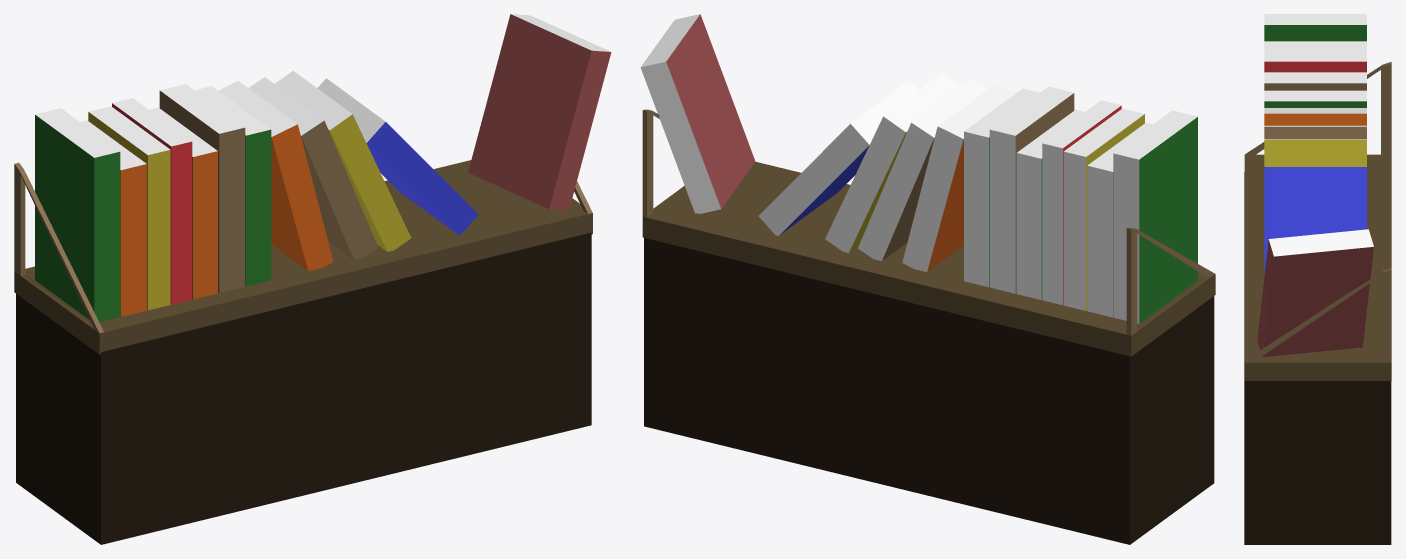
The model's file is ReceptionDesk_01.obj.
3 renders of one model, left to right at view 1: azimuth 30°, elevation 25°; view 2: azimuth 150°, elevation 25°; view 3: azimuth 270°, elevation 25°, orthographic. The views are drawn at different scales.
Visible parts, largest first — view 1: WallBookshelf; view 2: WallBookshelf; view 3: WallBookshelf.
Part boxes in pixels (x1=…): WallBookshelf: x1=14, y1=14, x2=611, y2=544; WallBookshelf: x1=640, y1=14, x2=1215, y2=544; WallBookshelf: x1=1244, y1=14, x2=1391, y2=544.
Size of the model in its own units: 5.75 by 3.92 by 1.6.
